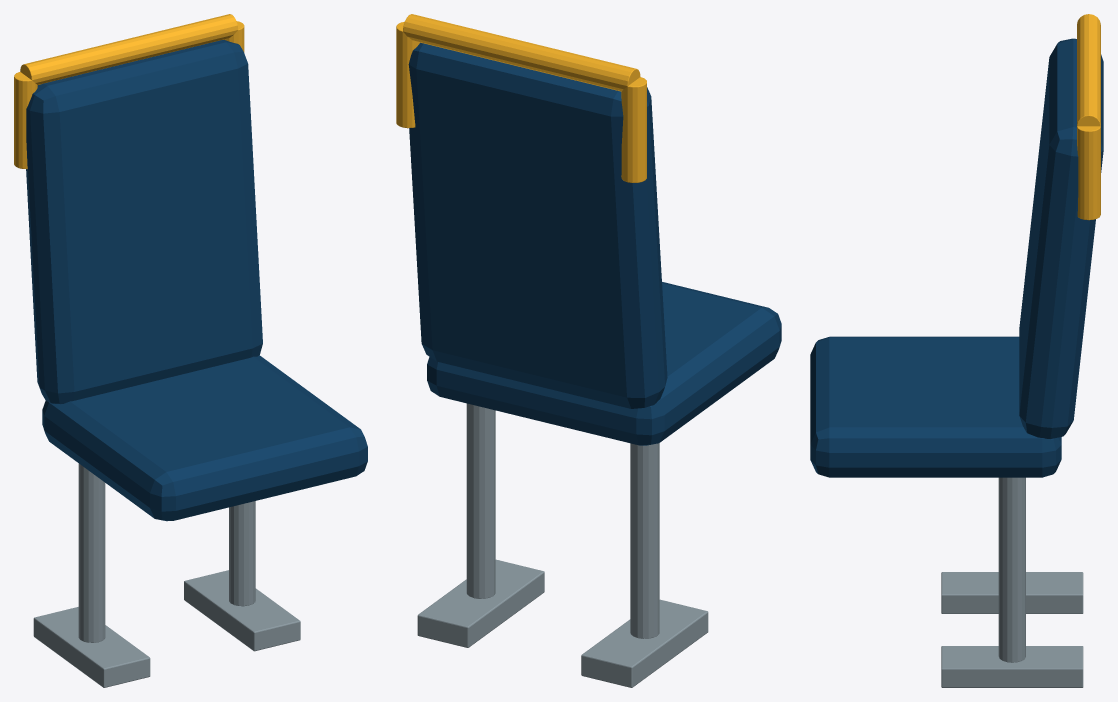
3 renders of one model, left to right at view 1: azimuth 30°, elevation 25°; view 2: azimuth 150°, elevation 25°; view 3: azimuth 270°, elevation 25°, orthographic. The views are drawn at different scales.
Visible parts, largest first — view 1: BACK_Cushion, SEAT_Cushion, BACK_Grip, FOOT_Plate, FOOT_Plate.001, LEG, LEG.001, GRIP_End; view 2: BACK_Cushion, SEAT_Cushion, BACK_Grip, LEG, LEG.001, FOOT_Plate.001, FOOT_Plate, GRIP_End, GRIP_End.001; view 3: SEAT_Cushion, BACK_Cushion, FOOT_Plate.001, LEG.001, FOOT_Plate, BACK_Grip, GRIP_End.001.
Boxes of the visible parts, x1=… form: BACK_Cushion: x1=26, y1=40, x2=262, y2=404; SEAT_Cushion: x1=42, y1=355, x2=367, y2=521; BACK_Grip: x1=20, y1=14, x2=238, y2=84; FOOT_Plate: x1=33, y1=607, x2=150, y2=687; FOOT_Plate.001: x1=184, y1=570, x2=300, y2=651; LEG: x1=78, y1=463, x2=105, y2=642; LEG.001: x1=229, y1=501, x2=255, y2=606; GRIP_End: x1=14, y1=72, x2=37, y2=169; BACK_Cushion: x1=408, y1=42, x2=667, y2=408; SEAT_Cushion: x1=427, y1=282, x2=781, y2=445; BACK_Grip: x1=403, y1=14, x2=640, y2=91; LEG: x1=630, y1=443, x2=659, y2=638; LEG.001: x1=466, y1=403, x2=495, y2=598; FOOT_Plate.001: x1=417, y1=559, x2=544, y2=647; FOOT_Plate: x1=581, y1=599, x2=708, y2=687; GRIP_End: x1=621, y1=77, x2=646, y2=182; GRIP_End.001: x1=396, y1=22, x2=419, y2=128; SEAT_Cushion: x1=810, y1=336, x2=1061, y2=477; BACK_Cushion: x1=1019, y1=38, x2=1103, y2=438; FOOT_Plate.001: x1=941, y1=646, x2=1083, y2=687; LEG.001: x1=998, y1=477, x2=1025, y2=662; FOOT_Plate: x1=941, y1=572, x2=1083, y2=613; BACK_Grip: x1=1077, y1=14, x2=1100, y2=126; GRIP_End.001: x1=1077, y1=126, x2=1100, y2=220.
Bounding box in the file's own units: 0.484 × 1.16 × 0.5372.
